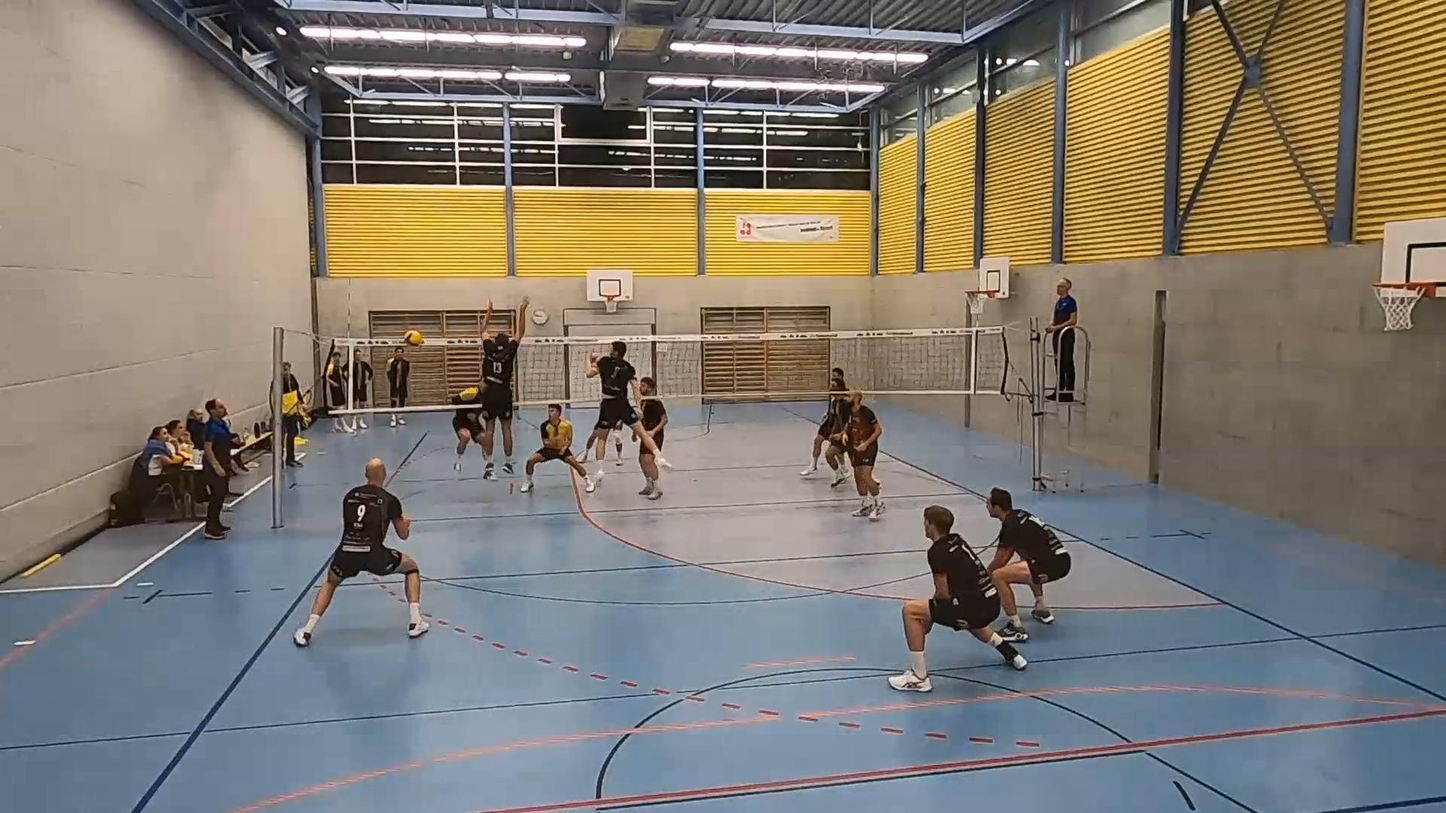muro: (471, 308, 526, 483)
